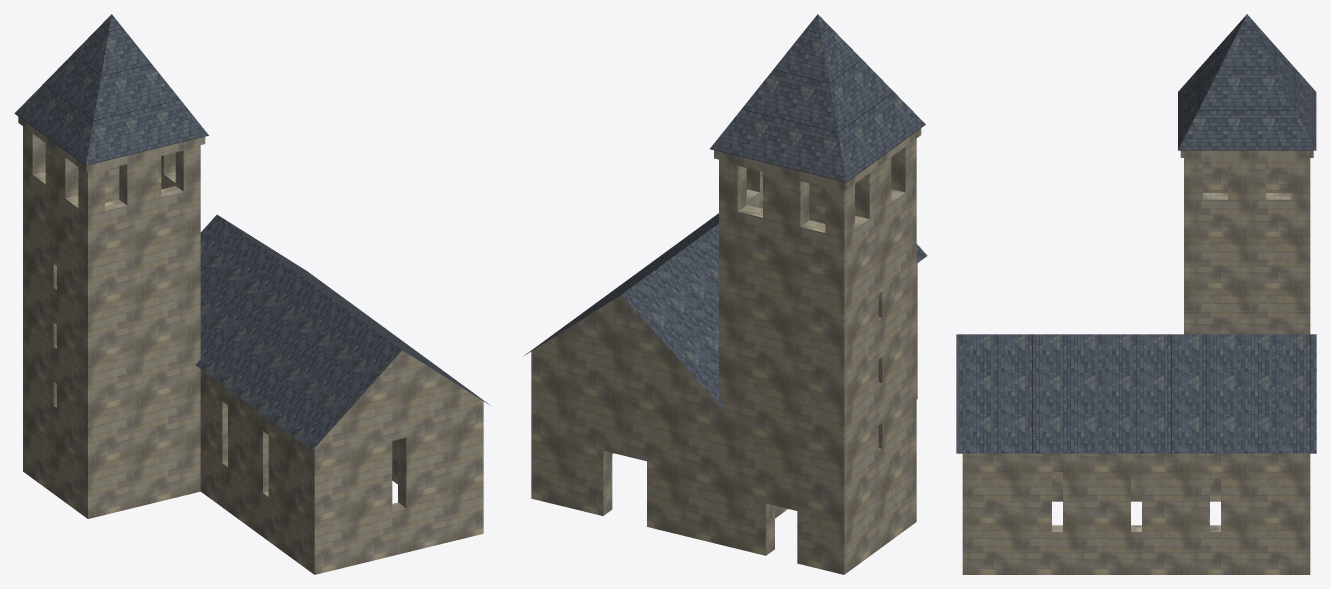
File: fort-chapel.reveal-v1.lod1.glb
The picture shows the model from 3 angles, left to right: view 1: azimuth 30°, elevation 25°; view 2: azimuth 150°, elevation 25°; view 3: azimuth 270°, elevation 25°; orthographic projection. The views are drawn at different scales.
Visible parts, largest first — view 1: fort-chapel; view 2: fort-chapel; view 3: fort-chapel.
Part boxes in pixels (x1=…): fort-chapel: x1=14, y1=14, x2=490, y2=574; fort-chapel: x1=523, y1=14, x2=927, y2=574; fort-chapel: x1=956, y1=14, x2=1316, y2=574.
Bounding box in the file's own units: 20.78 × 31.7 × 22.8.
Materials: 3 (3 with a texture image).
